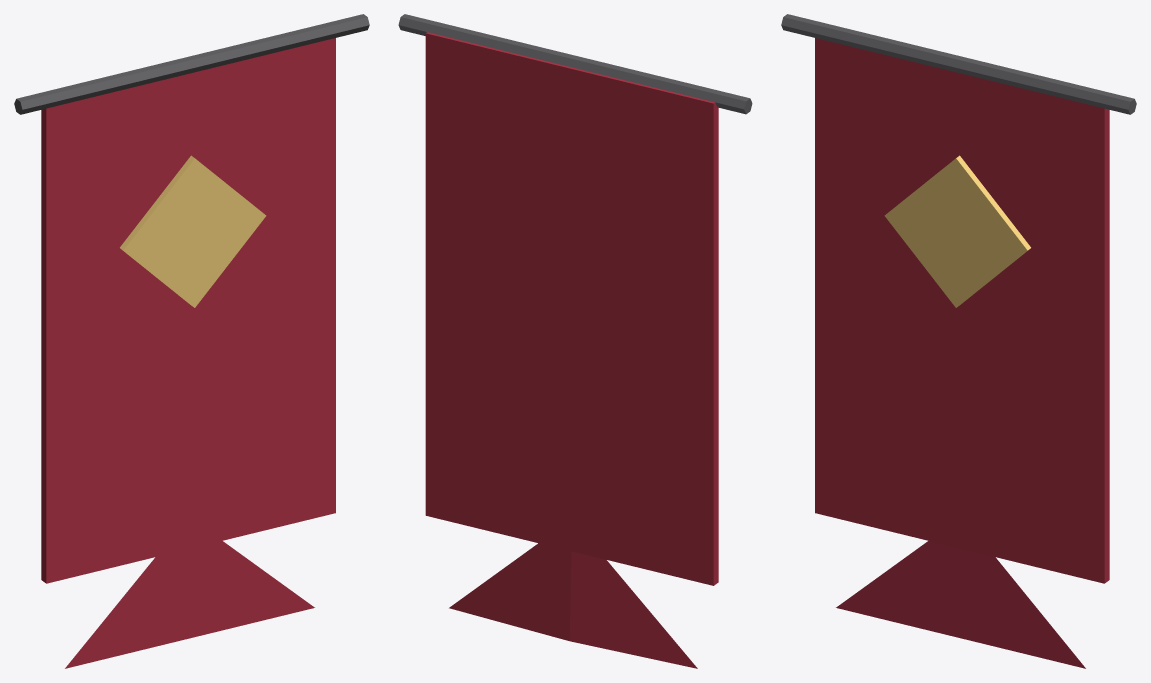
The model's file is banner.glb.
3 views of the same model, side by side, from view 1: azimuth 30°, elevation 25°; view 2: azimuth 150°, elevation 25°; view 3: azimuth 330°, elevation 25° (orthographic).
Visible parts, largest first — view 1: banner; view 2: banner; view 3: banner.
Boxes of the visible parts, left/top/right/bottom form: banner: left=14, top=14, right=369, bottom=668; banner: left=398, top=14, right=752, bottom=668; banner: left=781, top=14, right=1136, bottom=668.
Bounding box in the file's own units: 1.2 × 1.92 × 0.06.
